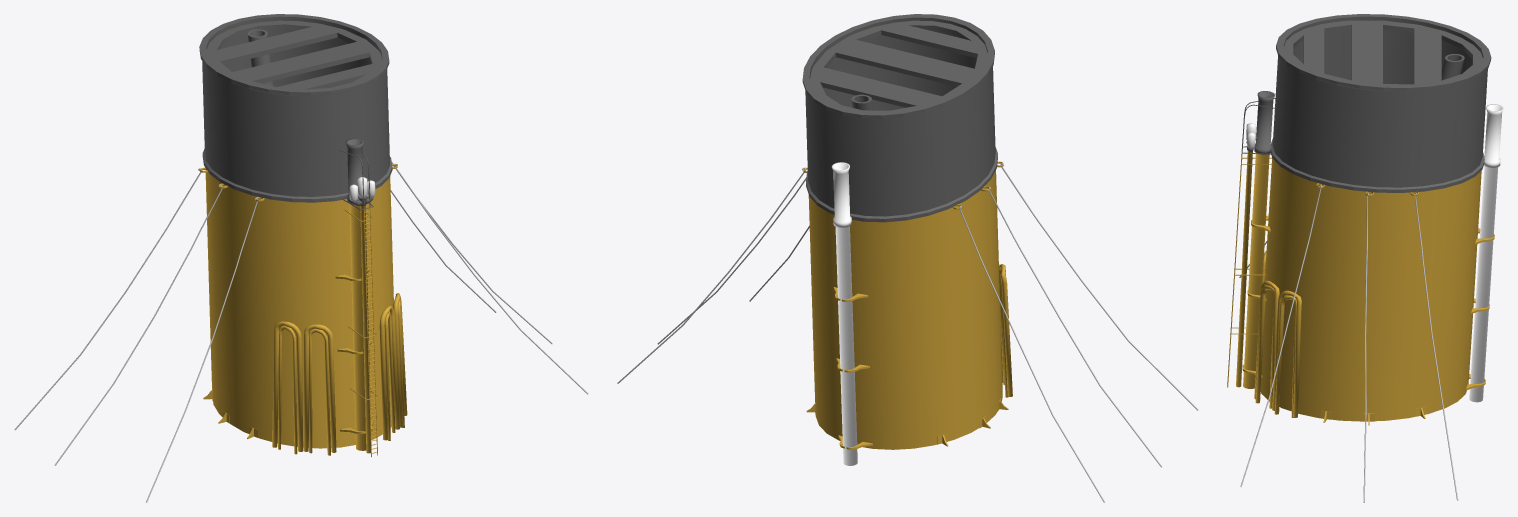
Rendered from titanic.glb.
3 views of the same model, side by side, from view 1: azimuth 30°, elevation 25°; view 2: azimuth 150°, elevation 25°; view 3: azimuth 270°, elevation 25° (orthographic). The views are drawn at different scales.
Visible parts, largest first — view 1: Object_10, Object_11, Object_9, Object_12; view 2: Object_10, Object_11, Object_15, Object_12, Object_9; view 3: Object_10, Object_11, Object_9, Object_15, Object_12, Object_13, Object_6.
Part boxes in pixels (left/top/right/bottom): Object_10: left=205, top=172, right=399, bottom=451; Object_11: left=199, top=14, right=392, bottom=209; Object_9: left=199, top=164, right=407, bottom=455; Object_12: left=14, top=161, right=552, bottom=502; Object_10: left=808, top=170, right=1012, bottom=449; Object_11: left=802, top=14, right=997, bottom=222; Object_15: left=831, top=162, right=857, bottom=465; Object_12: left=617, top=163, right=1198, bottom=502; Object_9: left=803, top=161, right=1008, bottom=449; Object_10: left=1260, top=157, right=1481, bottom=421; Object_11: left=1242, top=14, right=1491, bottom=192; Object_9: left=1231, top=150, right=1494, bottom=425; Object_15: left=1246, top=104, right=1503, bottom=413; Object_12: left=1239, top=192, right=1458, bottom=502; Object_13: left=1240, top=184, right=1322, bottom=486; Object_6: left=1227, top=152, right=1242, bottom=387.
Bounding box in the file's own units: 23.18 × 16.2 × 11.44.
